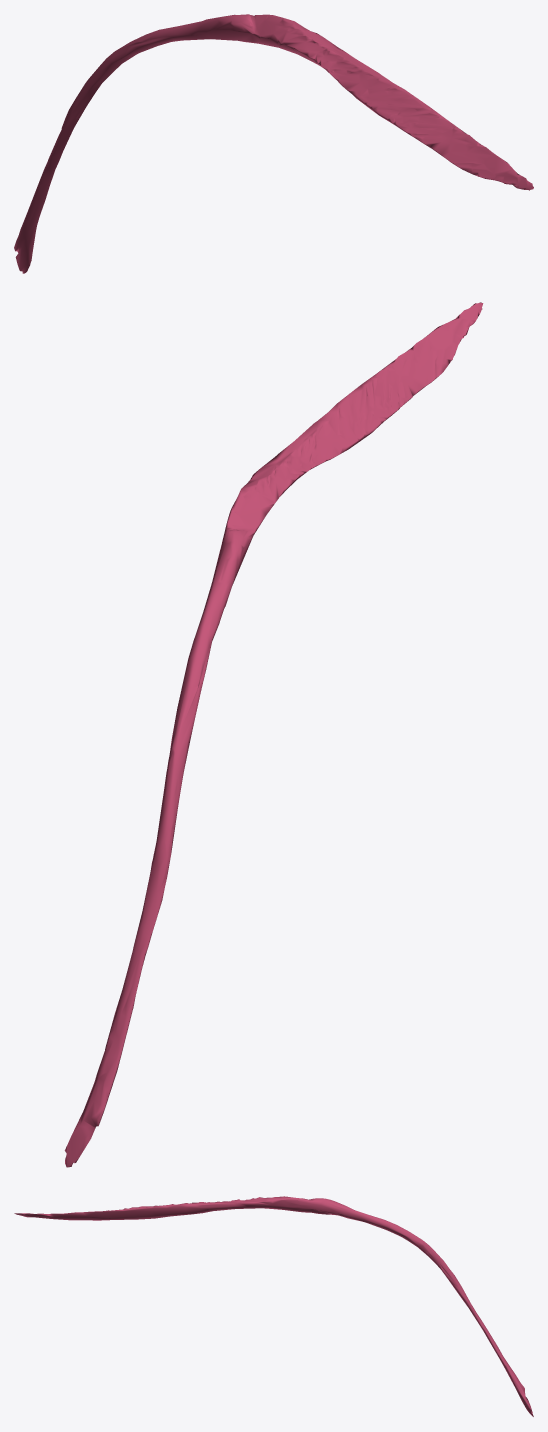
The picture shows the model from 3 angles, top to bottom: view 1: azimuth 30°, elevation 25°; view 2: azimuth 150°, elevation 25°; view 3: azimuth 270°, elevation 25°; orthographic projection. The views are drawn at different scales.
Parts seen in each view (by area): view 1: 左侧踇长伸肌; view 2: 左侧踇长伸肌; view 3: 左侧踇长伸肌.
Part boxes in pixels (x1,y1,x2,y2): 左侧踇长伸肌: (14, 14, 533, 273); 左侧踇长伸肌: (64, 302, 483, 1167); 左侧踇长伸肌: (14, 1196, 533, 1416).
Bounding box in the file's own units: 0.0629 × 0.2088 × 0.4133.
